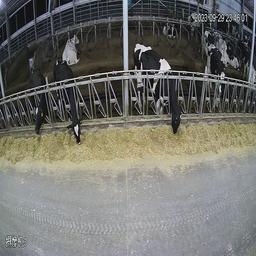cow: (134, 44, 186, 136), (56, 62, 87, 144), (28, 64, 50, 137), (207, 43, 225, 109), (63, 33, 80, 63), (187, 10, 201, 38), (160, 18, 176, 38)
